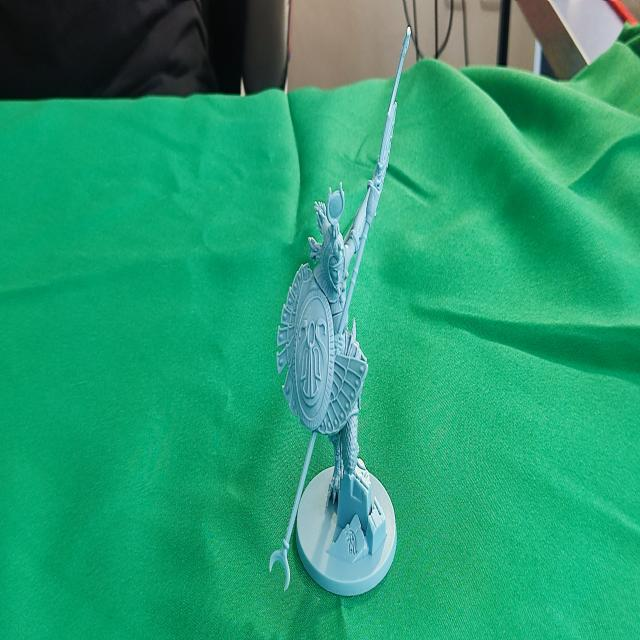isis: (263, 17, 423, 630)
